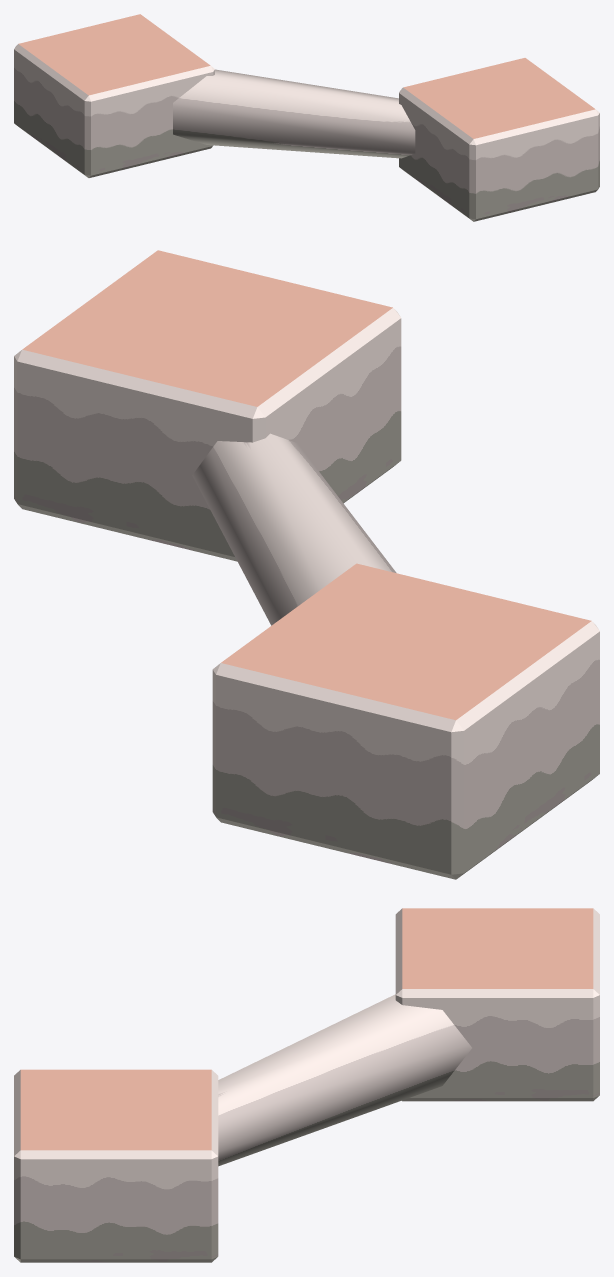
Rendered from R4C_ROD_DIAG_2D_SHORT_LOD1.glb.
3 views of the same model, one above another, from view 1: azimuth 30°, elevation 25°; view 2: azimuth 150°, elevation 25°; view 3: azimuth 270°, elevation 25° (orthographic). The views are drawn at different scales.
Visible parts, largest first — view 1: R4C_ROD_DIAG_2D_SHORT_LOD1; view 2: R4C_ROD_DIAG_2D_SHORT_LOD1; view 3: R4C_ROD_DIAG_2D_SHORT_LOD1.
Boxes of the visible parts, x1,y1,x2,y2 form: R4C_ROD_DIAG_2D_SHORT_LOD1: (14, 14, 599, 221); R4C_ROD_DIAG_2D_SHORT_LOD1: (14, 250, 599, 879); R4C_ROD_DIAG_2D_SHORT_LOD1: (14, 908, 599, 1262).
Bounding box in the file's own units: 1.07 × 0.226 × 1.07.
3 materials, 3 textured.
